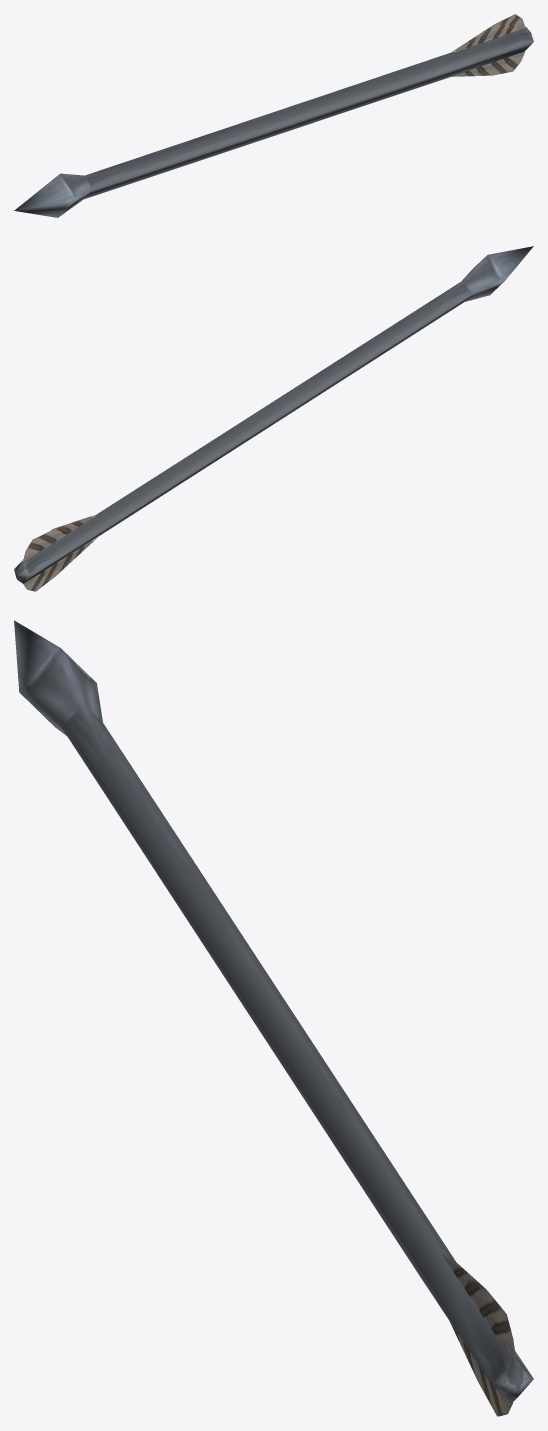
File: DanShouNuJian_1_1.fbx
3 views of the same model, one above another, from view 1: azimuth 30°, elevation 25°; view 2: azimuth 210°, elevation 25°; view 3: azimuth 270°, elevation 25° (orthographic). The views are drawn at different scales.
Parts seen in each view (by area): view 1: DanShouNuJian_1_1; view 2: DanShouNuJian_1_1; view 3: DanShouNuJian_1_1.
Part boxes in pixels (<box>): DanShouNuJian_1_1: <box>14,14,533,217</box>; DanShouNuJian_1_1: <box>14,246,533,591</box>; DanShouNuJian_1_1: <box>14,620,533,1416</box>.
Size of the model in its own units: 50.42 by 8.74 by 17.93.
1 material, 1 textured.
